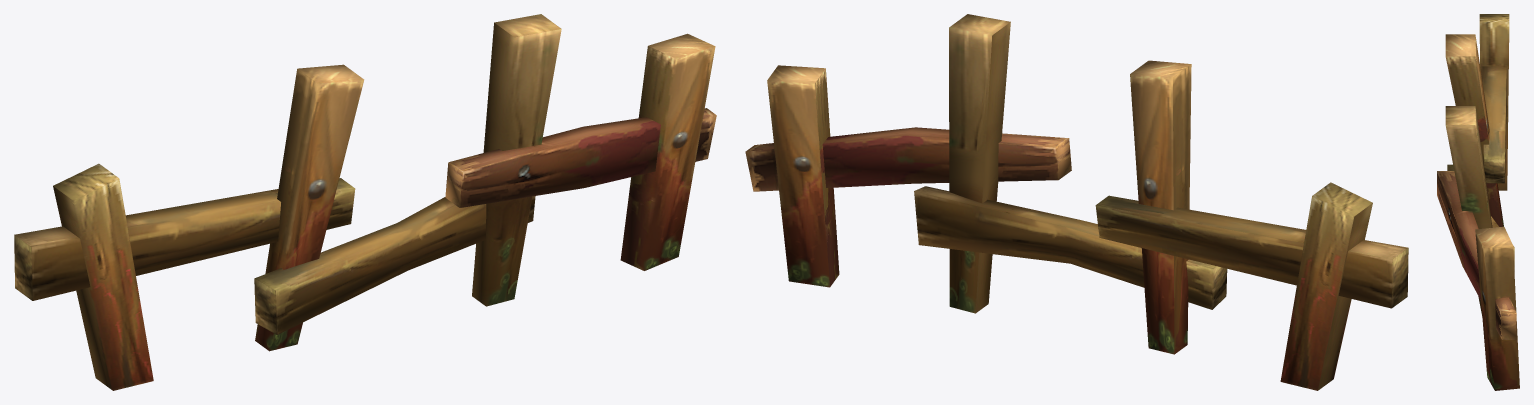
File: langang_jiaowai_X02.FBX
3 renders of one model, left to right at view 1: azimuth 30°, elevation 25°; view 2: azimuth 150°, elevation 25°; view 3: azimuth 270°, elevation 25°, orthographic. The views are drawn at different scales.
Visible parts, largest first — view 1: langang_jiaowai_X02; view 2: langang_jiaowai_X02; view 3: langang_jiaowai_X02.
Boxes of the visible parts, left/top/right/bottom form: langang_jiaowai_X02: left=14, top=14, right=716, bottom=390; langang_jiaowai_X02: left=745, top=14, right=1408, bottom=390; langang_jiaowai_X02: left=1437, top=14, right=1519, bottom=390.
Size of the model in its own units: 691 by 279 by 96.91.
